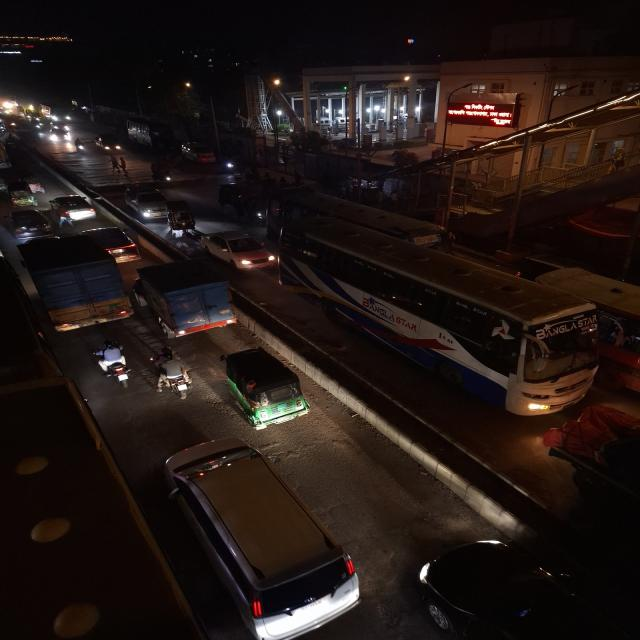bus: (268, 223, 602, 419), (595, 296, 640, 399), (126, 115, 176, 153)
car: (148, 440, 369, 640), (200, 227, 273, 271), (82, 225, 142, 261), (120, 182, 170, 220), (47, 194, 98, 222), (180, 139, 218, 167)
cng: (406, 536, 640, 640), (218, 347, 312, 430), (164, 200, 198, 238), (7, 179, 38, 207), (94, 131, 124, 155), (10, 175, 44, 196)
motorcycle: (148, 350, 200, 402), (88, 340, 136, 390), (147, 160, 176, 184), (221, 156, 238, 174), (73, 138, 86, 154)
pedestrian: (108, 155, 120, 177), (118, 158, 129, 176)
rickshaw: (147, 160, 176, 184)
truck: (20, 236, 130, 332), (132, 261, 240, 338), (0, 139, 13, 172)
